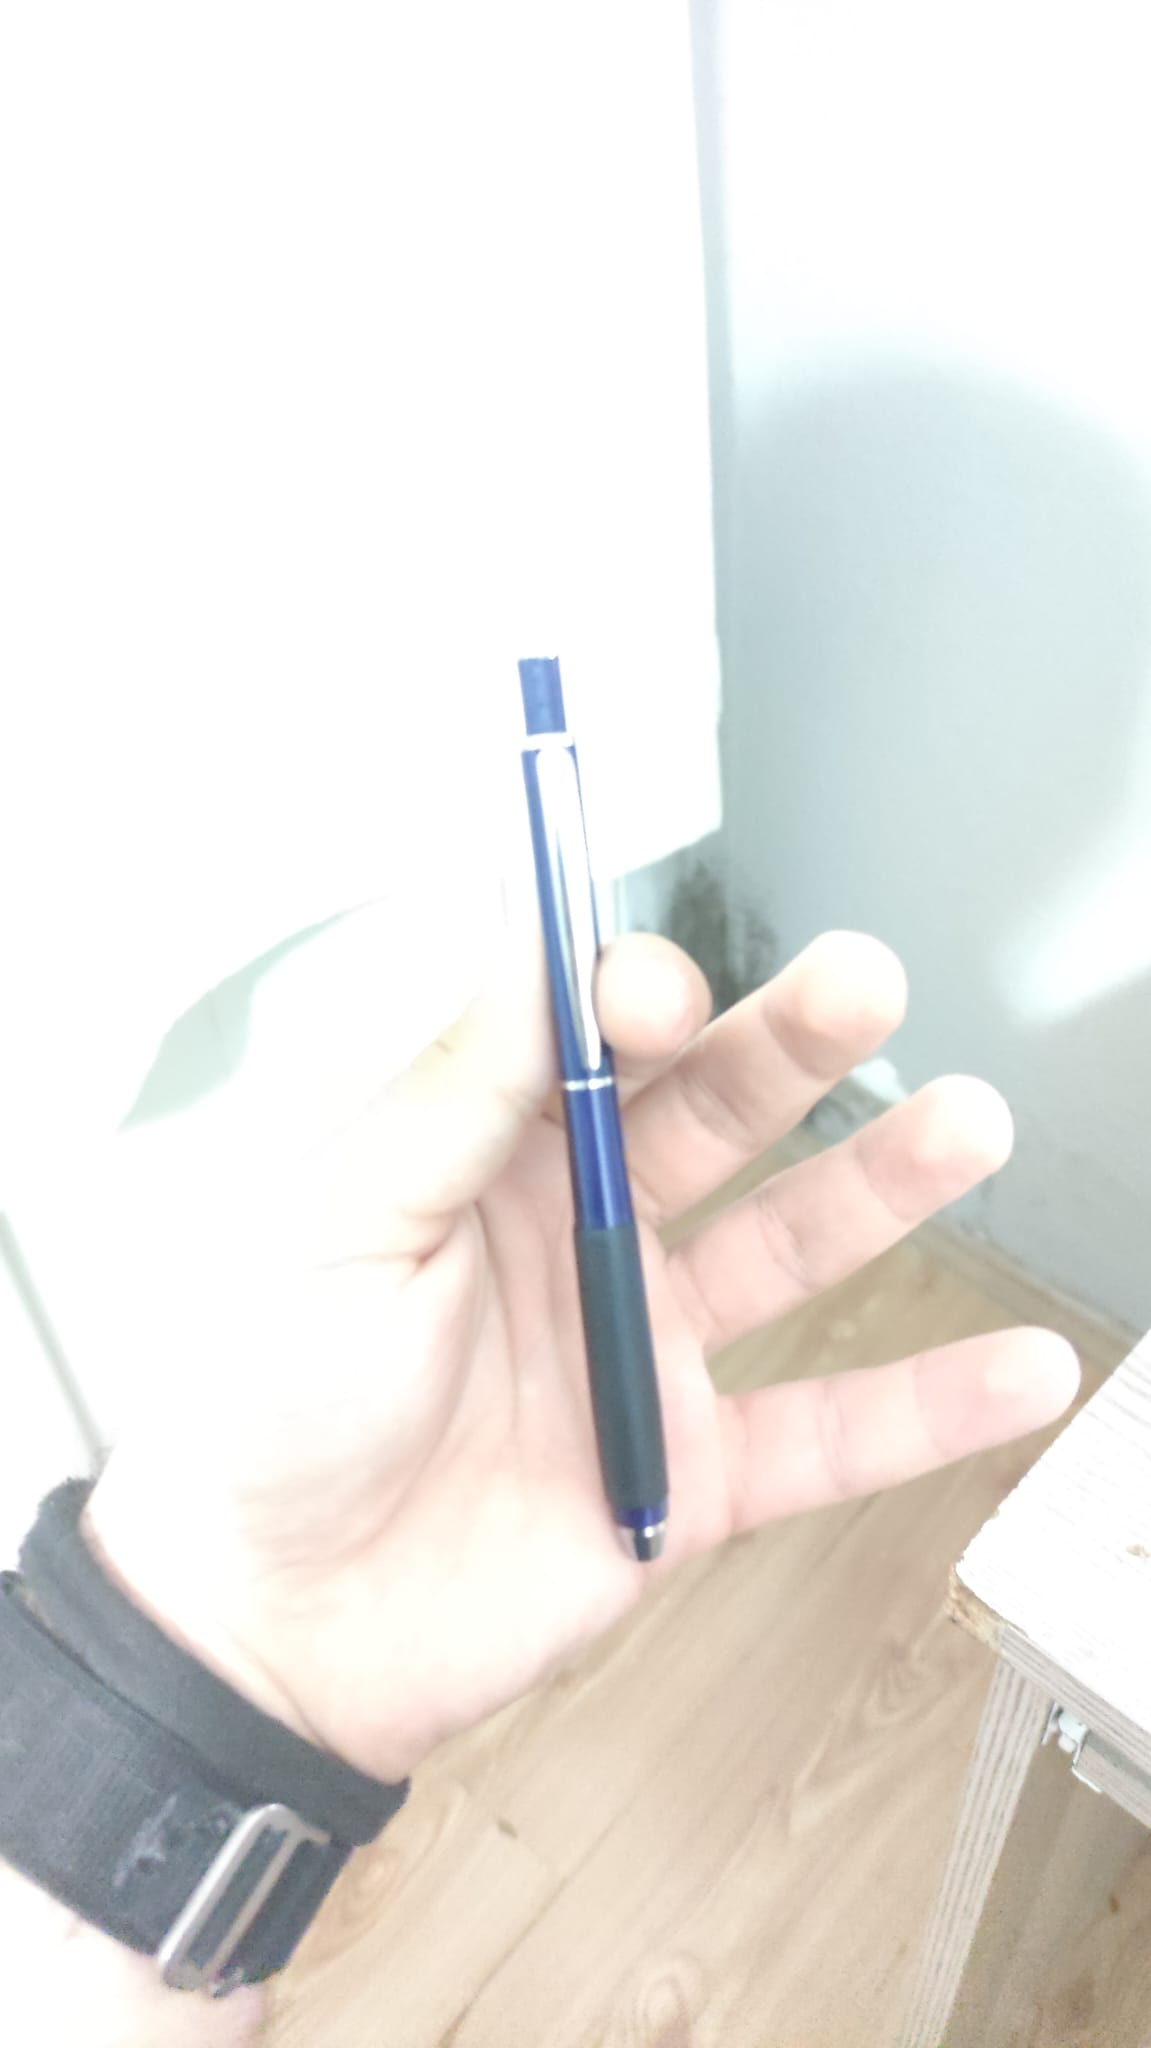kalem: (509, 641, 673, 1560)
